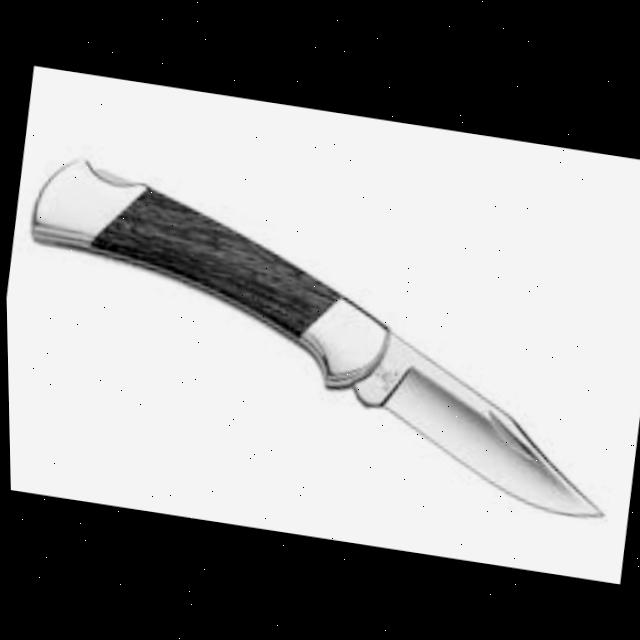knife: (3, 147, 640, 520)
